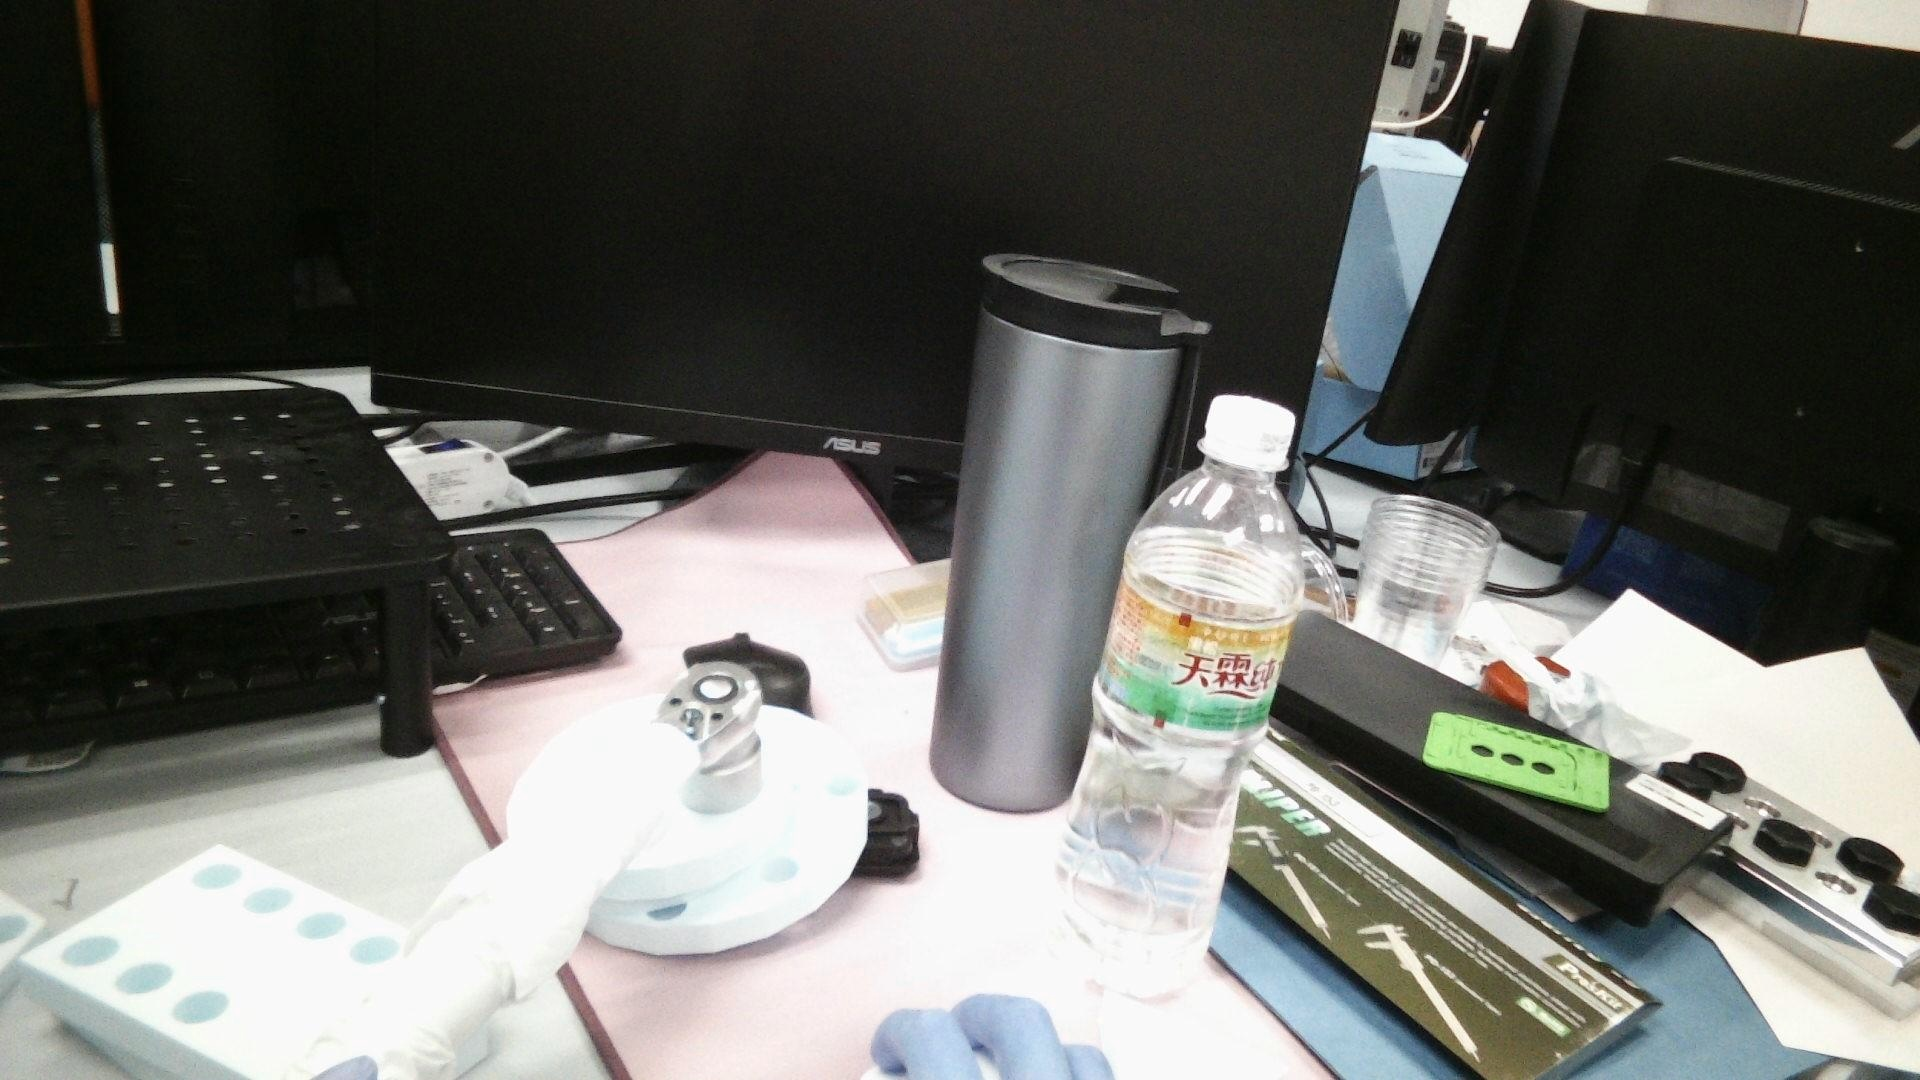hole: (190, 860, 243, 899), (59, 935, 113, 971), (115, 963, 175, 994), (294, 909, 345, 943), (170, 992, 222, 1025), (243, 885, 293, 914), (349, 934, 393, 965)
obj: (512, 680, 874, 984), (9, 847, 476, 1080)
wrench: (688, 669, 738, 699)
